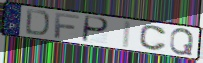C: (138, 24, 168, 52)
D: (24, 8, 51, 37)
F: (54, 12, 81, 40)
I: (121, 19, 134, 50)
P: (80, 15, 110, 44)
Q: (169, 27, 196, 56)
